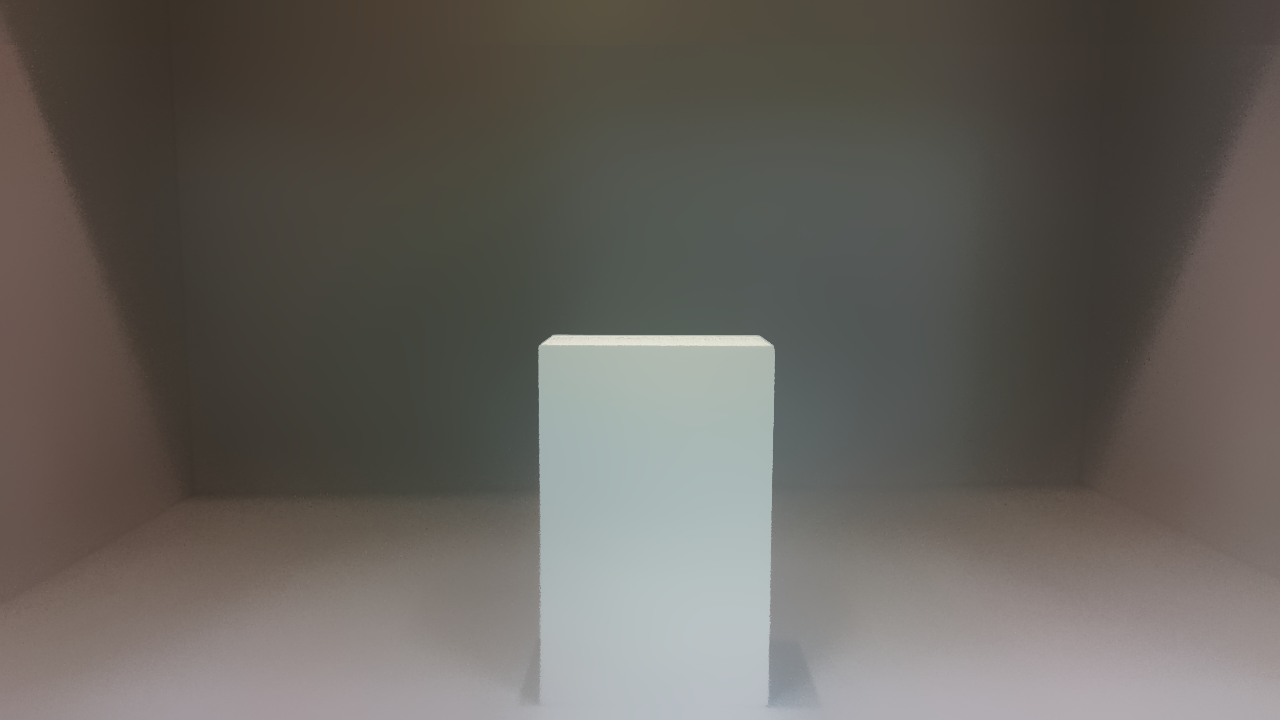Retangulo: (539, 335, 772, 708)
